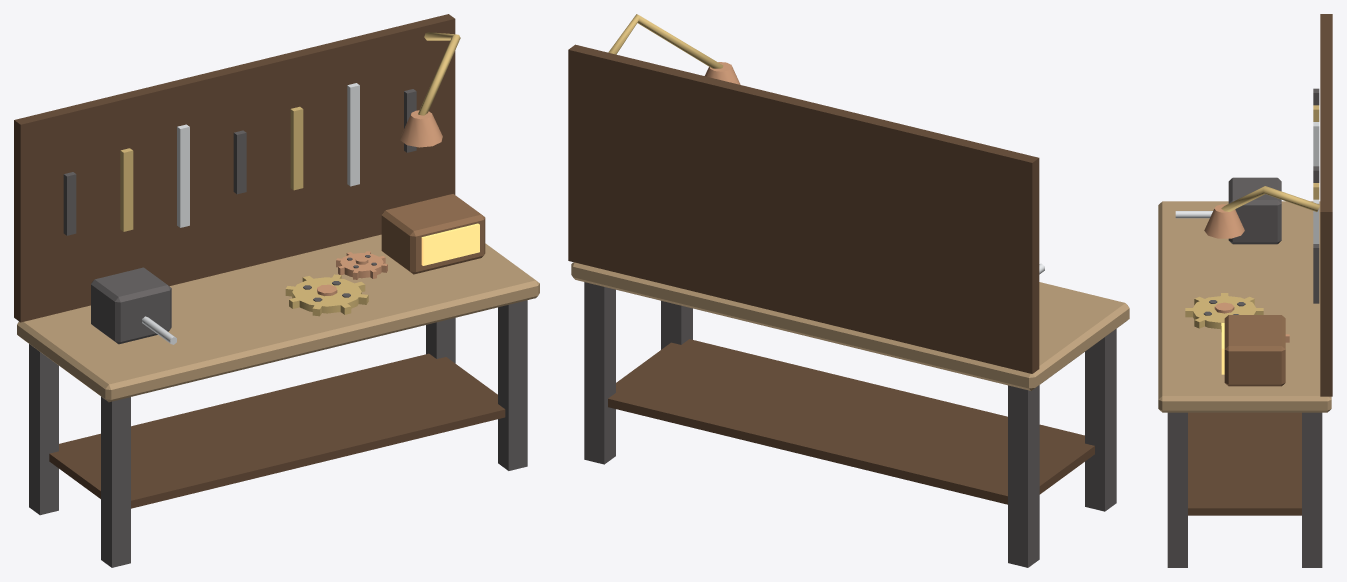
Rendered from hm_workbench.glb.
3 views of the same model, side by side, from view 1: azimuth 30°, elevation 25°; view 2: azimuth 150°, elevation 25°; view 3: azimuth 270°, elevation 25° (orthographic). The views are drawn at different scales.
Visible parts, largest first — view 1: hm_workbench; view 2: hm_workbench; view 3: hm_workbench.
Part boxes in pixels (left/top/right/bottom): hm_workbench: left=14, top=14, right=539, bottom=567; hm_workbench: left=568, top=14, right=1129, bottom=567; hm_workbench: left=1158, top=14, right=1332, bottom=567.
Size of the model in its own units: 2.3 by 2.02 by 0.855.
